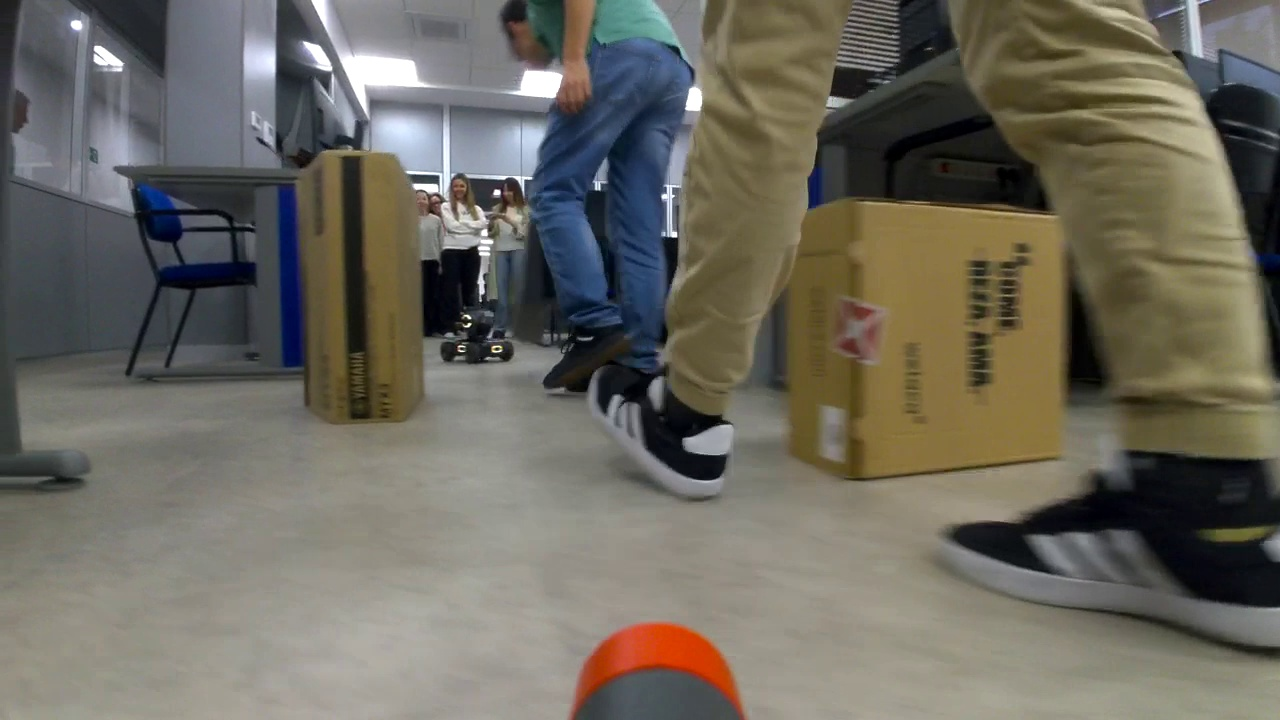robot: (441, 306, 516, 361)
